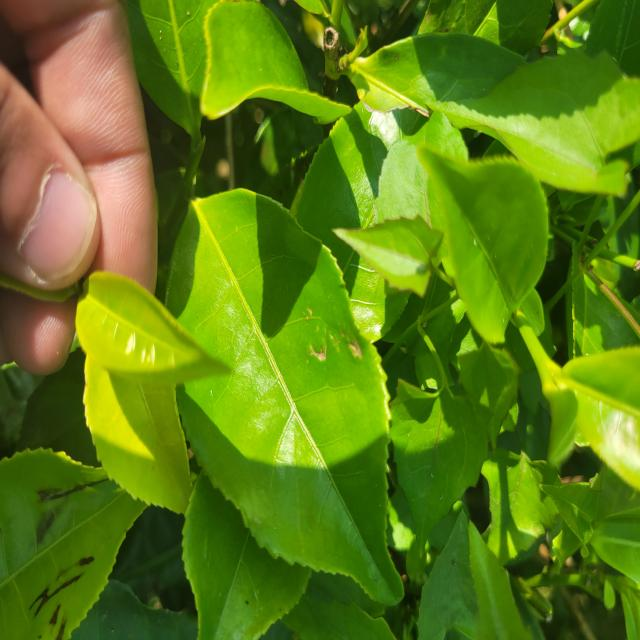Catagory A(1-2 days): (66, 254, 240, 409)
